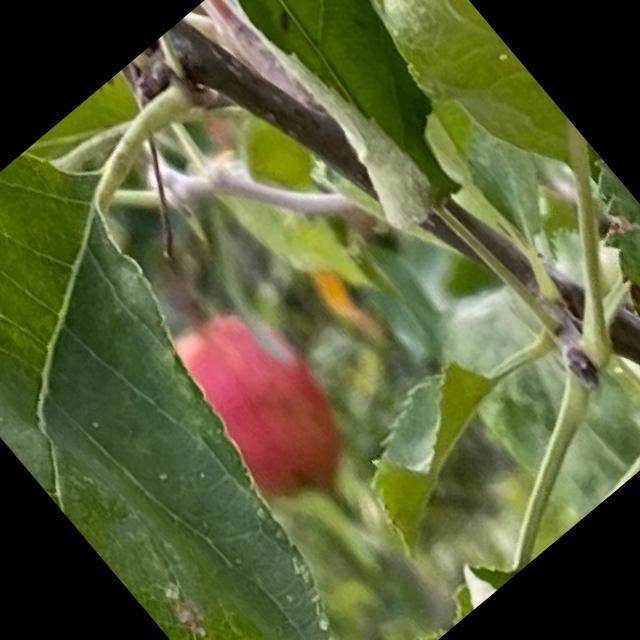100-_ripeness: (154, 288, 370, 515)
